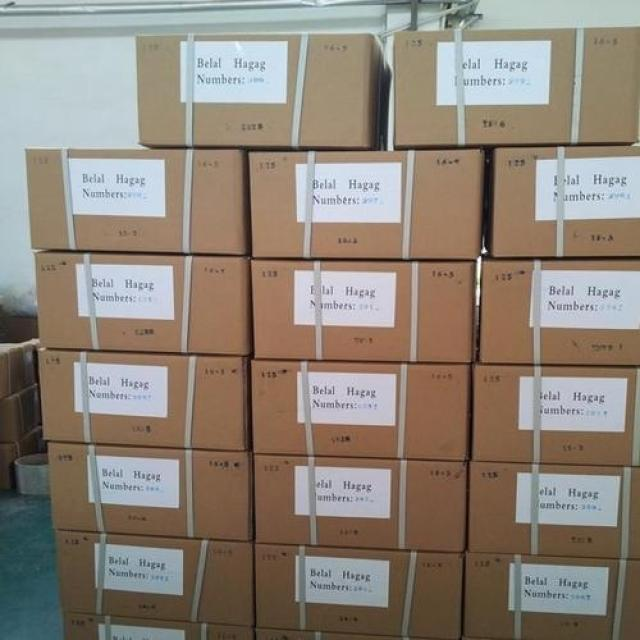box: (134, 33, 392, 151), (392, 27, 640, 147), (248, 150, 485, 261), (27, 147, 251, 257), (250, 257, 477, 365), (250, 360, 475, 460), (35, 252, 250, 356), (37, 351, 248, 453), (252, 454, 467, 554), (46, 442, 252, 543), (51, 529, 255, 626), (255, 545, 465, 639), (484, 143, 640, 257), (468, 365, 640, 467), (465, 461, 640, 559), (479, 260, 640, 366), (463, 552, 640, 637), (63, 612, 255, 639), (0, 429, 47, 497), (0, 384, 40, 445), (255, 627, 434, 639), (0, 342, 36, 398)
